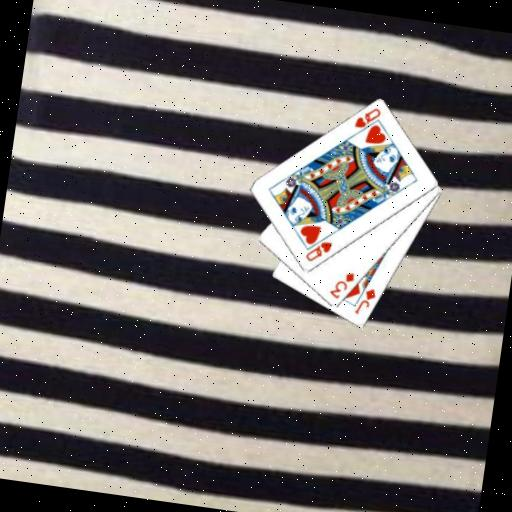3D: (326, 267, 357, 303)
JD: (351, 284, 379, 318)
QH: (350, 103, 383, 141), (303, 236, 335, 266)
